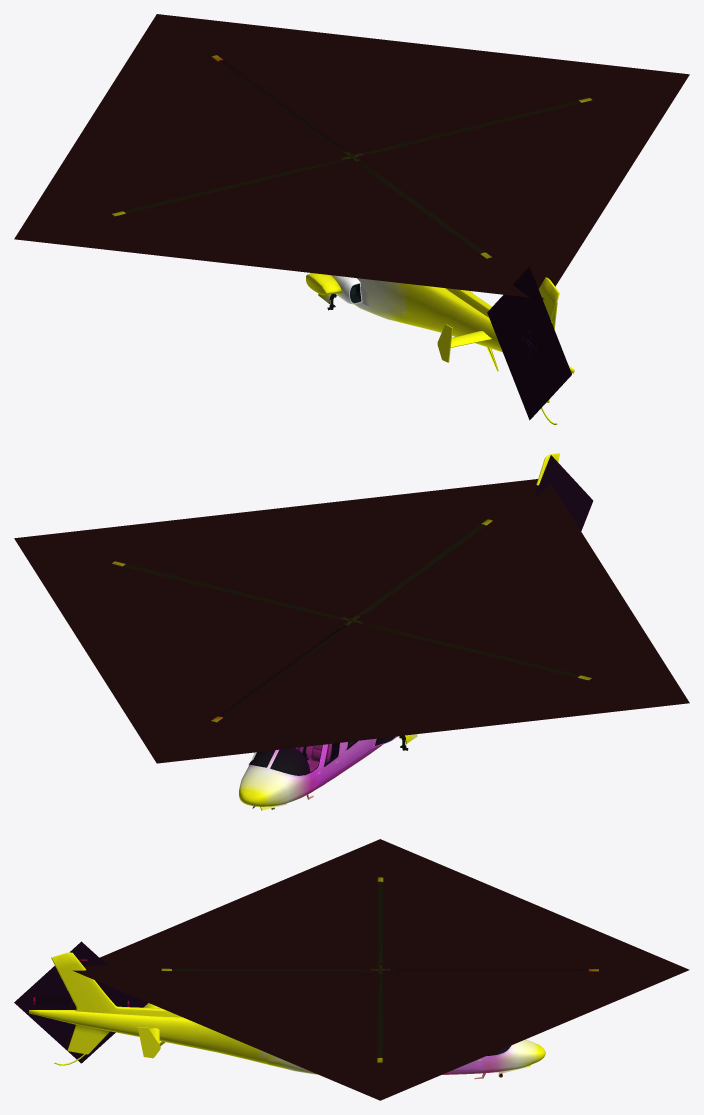
Rendered from swift2.glb.
The picture shows the model from 3 angles, top to bottom: view 1: azimuth 30°, elevation 25°; view 2: azimuth 150°, elevation 25°; view 3: azimuth 270°, elevation 25°; orthographic projection. The views are drawn at different scales.
Visible parts, largest first — view 1: rotor_main_fast, rotor_rear_fast, tail, rotor_main_slow, bodyshell; view 2: rotor_main_fast, rotor_main_slow, bodyshell, rotor_rear_fast, chassis, windscreen, door_dside_r, door_dside_f; view 3: rotor_main_fast, tail, rotor_rear_fast, rotor_main_slow, bodyshell, rotor_rear_slow.
Part boxes in pixels (x1,y1,x2,y2): rotor_main_fast: [14, 14, 689, 299]; rotor_rear_fast: [487, 267, 571, 420]; tail: [400, 277, 574, 424]; rotor_main_slow: [112, 55, 591, 258]; bodyshell: [306, 273, 407, 324]; rotor_main_fast: [14, 479, 689, 763]; rotor_main_slow: [112, 519, 591, 722]; bodyshell: [239, 736, 397, 806]; rotor_rear_fast: [534, 455, 593, 531]; chassis: [251, 742, 352, 775]; windscreen: [250, 745, 321, 775]; door_dside_r: [340, 739, 373, 770]; door_dside_f: [316, 742, 342, 785]; rotor_main_fast: [72, 839, 689, 1100]; tail: [29, 952, 267, 1065]; rotor_rear_fast: [14, 941, 147, 1063]; rotor_main_slow: [161, 877, 598, 1062]; bodyshell: [267, 1039, 545, 1079]; rotor_rear_slow: [33, 959, 129, 1026].
Bounding box in the file's own units: 18.08 × 4.21 × 19.73.
Materials: 17 (17 with a texture image).
